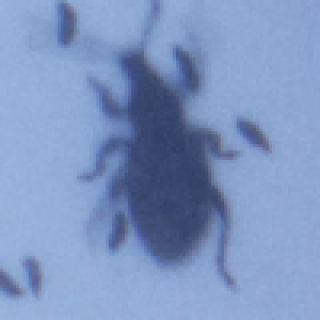bvw: (78, 1, 239, 292)
